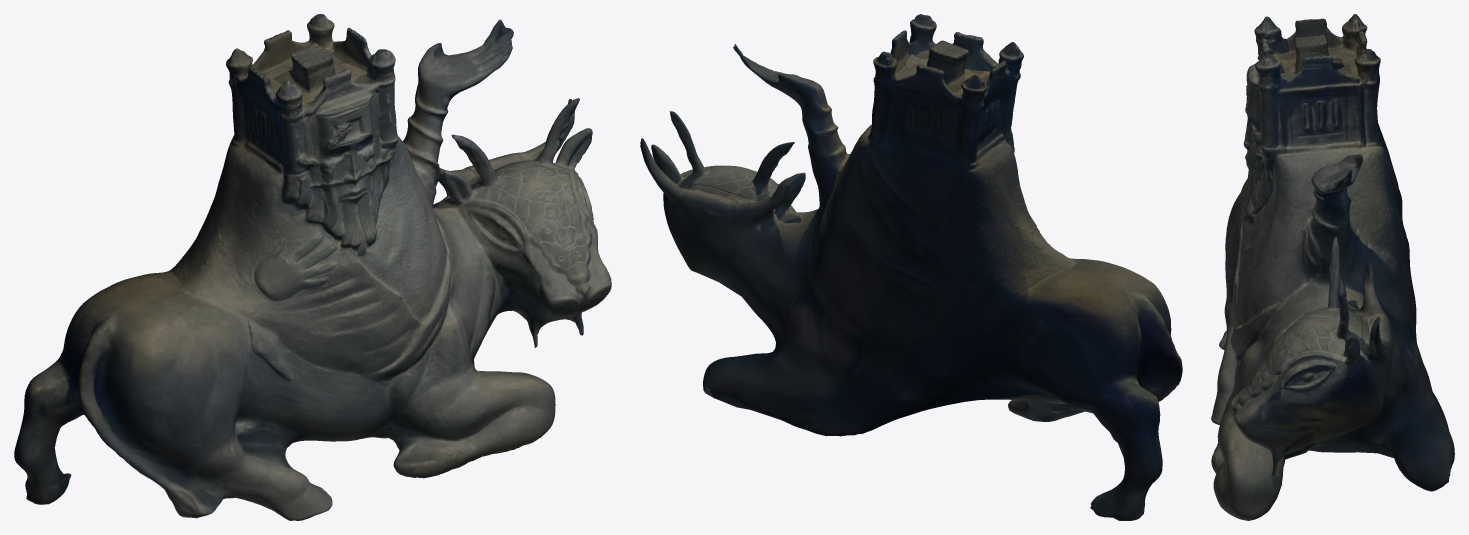
The model's file is 3DModel.glb.
The picture shows the model from 3 angles, left to right: view 1: azimuth 30°, elevation 25°; view 2: azimuth 150°, elevation 25°; view 3: azimuth 270°, elevation 25°; orthographic projection. The views are drawn at different scales.
Parts seen in each view (by area): view 1: 3DModel; view 2: 3DModel; view 3: 3DModel.
Part boxes in pixels (x1,y1,x2,y2): 3DModel: (14,14,611,520); 3DModel: (640,14,1182,520); 3DModel: (1211,14,1454,520).
Bounding box in the file's own units: 1.29 × 0.9342 × 0.4992.
1 material, 1 textured.
